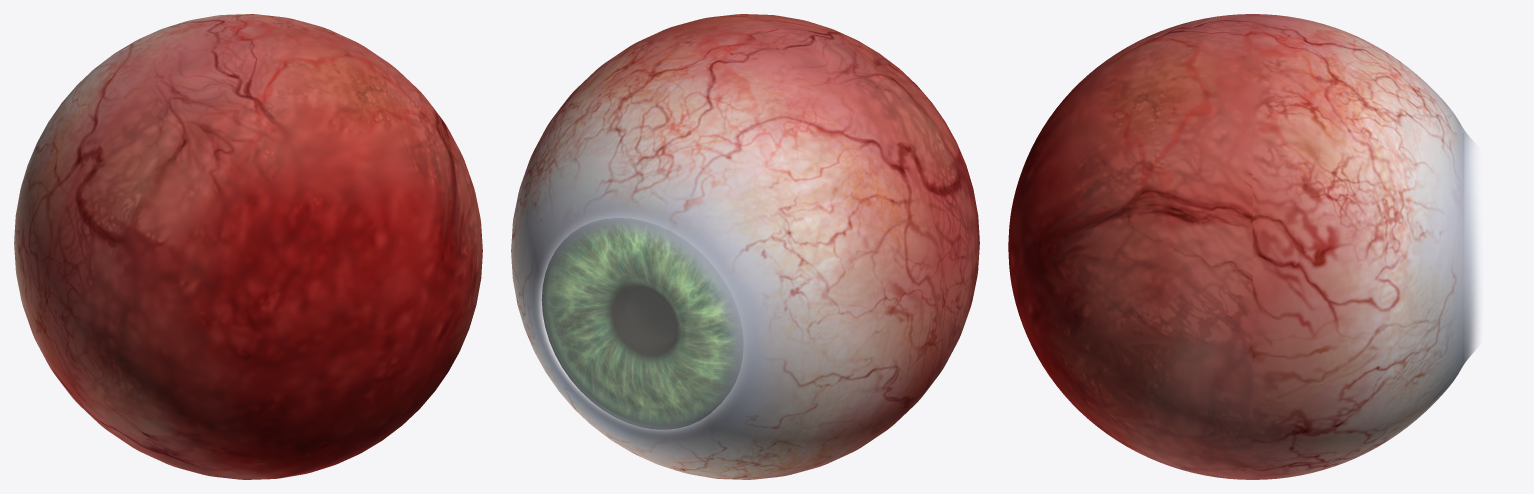
File: eye_blend.gltf
3 renders of one model, left to right at view 1: azimuth 30°, elevation 25°; view 2: azimuth 150°, elevation 25°; view 3: azimuth 270°, elevation 25°, orthographic.
Visible parts, largest first — view 1: Sclera; view 2: Sclera, Iris; view 3: Sclera.
Boxes of the visible parts, left/top/right/bottom form: Sclera: left=14, top=14, right=482, bottom=479; Sclera: left=511, top=14, right=979, bottom=479; Iris: left=541, top=218, right=741, bottom=429; Sclera: left=1008, top=14, right=1479, bottom=479.
Bounding box in the file's own units: 229 × 229 × 251.
Materials: 2 (2 with a texture image).
